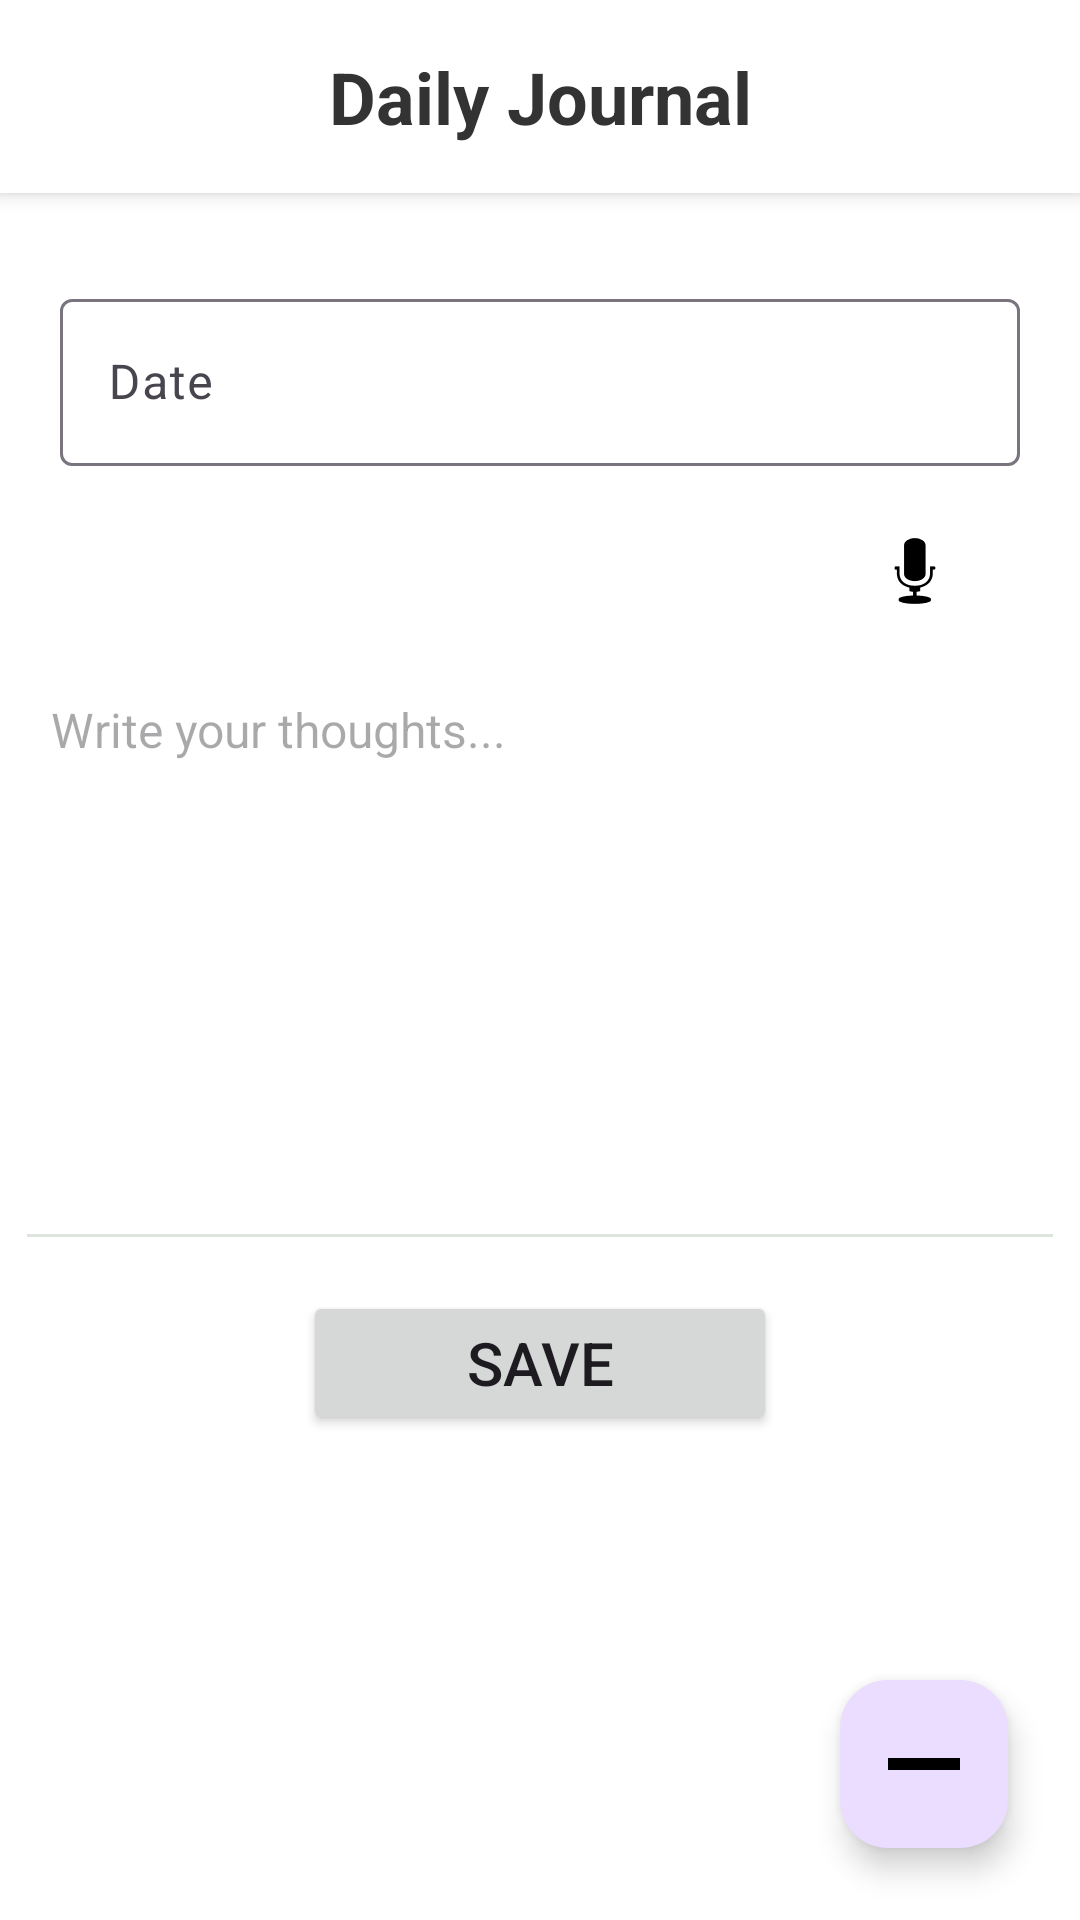

Point at icon controls on the screen. Image size 1080px×1920px, points as point (x, y).
Speech to Text: point (915, 571)
